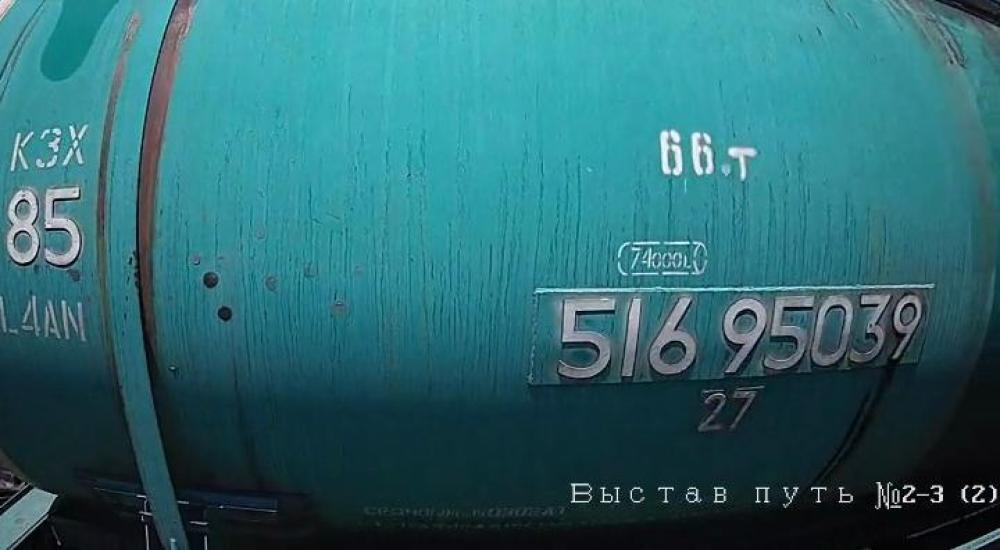Wagon-number: (545, 292, 928, 386)
